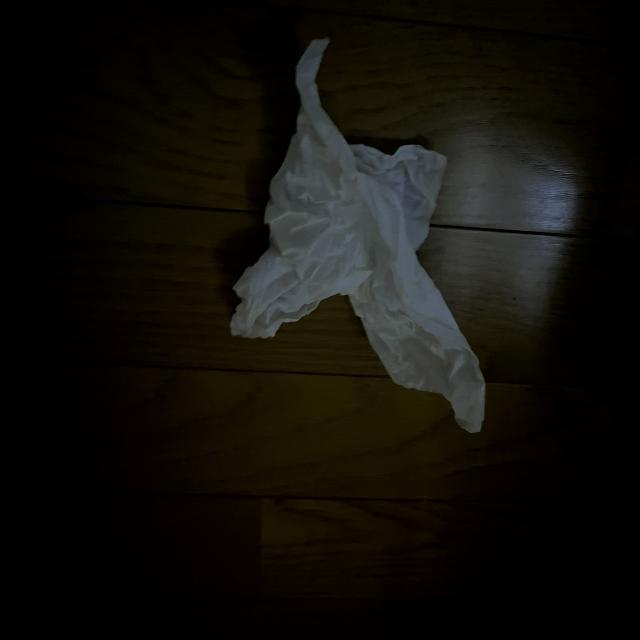Paper: (240, 45, 495, 418)
